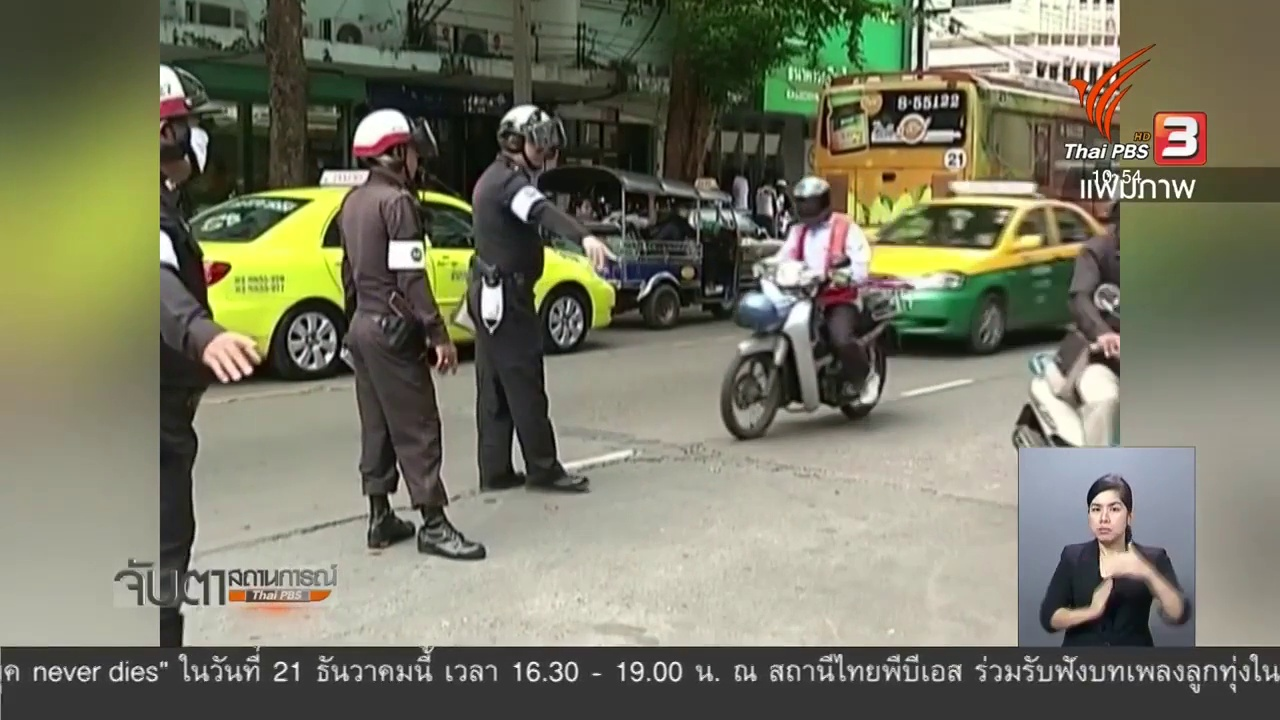helmet: (484, 83, 561, 174), (354, 95, 426, 188), (786, 164, 840, 227)
